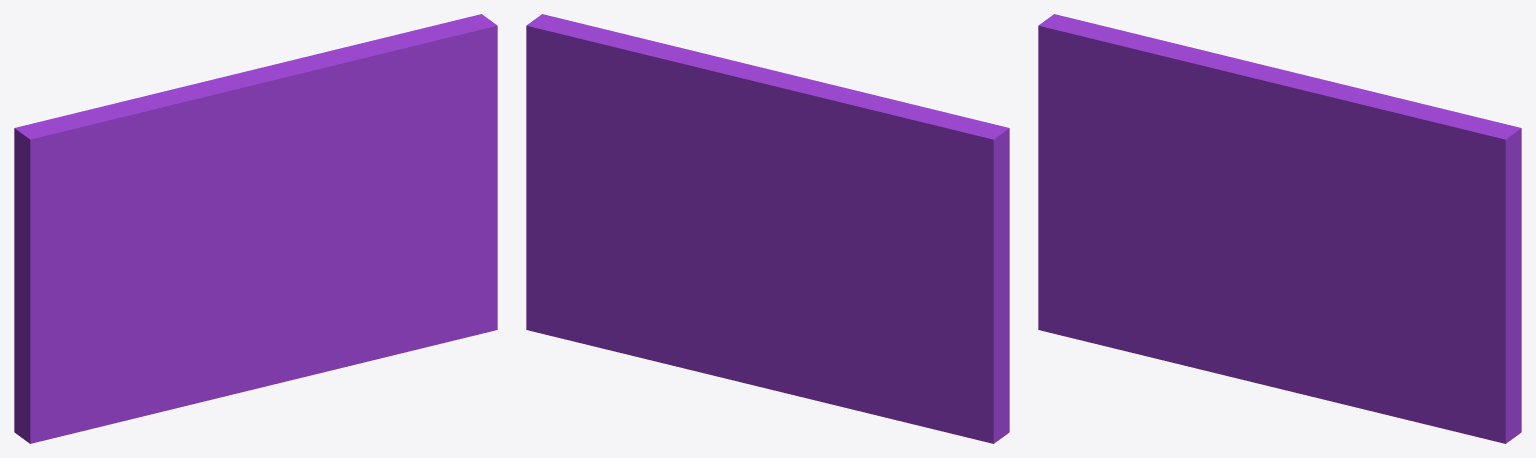
The model's file is Barrier_96_chunks.fbx.
The picture shows the model from 3 angles, left to right: view 1: azimuth 30°, elevation 25°; view 2: azimuth 150°, elevation 25°; view 3: azimuth 330°, elevation 25°; orthographic projection.
Parts seen in each view (by area): view 1: Barrier_96_1, Barrier_96_0, Barrier_96_2, Barrier_96_4, Barrier_96_3, Barrier_96_5, Barrier_96_6; view 2: Barrier_96_1, Barrier_96_2, Barrier_96_0, Barrier_96_4, Barrier_96_5, Barrier_96_6; view 3: Barrier_96_1, Barrier_96_0, Barrier_96_2, Barrier_96_4, Barrier_96_3, Barrier_96_5, Barrier_96_6.
Boxes of the visible parts, bbox=[...] form: Barrier_96_1: bbox=[14, 87, 266, 443]; Barrier_96_0: bbox=[249, 132, 497, 375]; Barrier_96_2: bbox=[182, 14, 497, 219]; Barrier_96_4: bbox=[98, 315, 242, 427]; Barrier_96_3: bbox=[205, 293, 267, 391]; Barrier_96_5: bbox=[247, 298, 310, 390]; Barrier_96_6: bbox=[203, 266, 264, 315]; Barrier_96_1: bbox=[771, 83, 1009, 443]; Barrier_96_2: bbox=[526, 14, 826, 236]; Barrier_96_0: bbox=[526, 161, 726, 361]; Barrier_96_4: bbox=[779, 307, 964, 436]; Barrier_96_5: bbox=[657, 251, 786, 391]; Barrier_96_6: bbox=[719, 230, 841, 319]; Barrier_96_1: bbox=[1038, 14, 1274, 346]; Barrier_96_0: bbox=[1258, 220, 1521, 443]; Barrier_96_2: bbox=[1221, 54, 1521, 262]; Barrier_96_4: bbox=[1106, 285, 1250, 381]; Barrier_96_3: bbox=[1213, 287, 1275, 382]; Barrier_96_5: bbox=[1255, 300, 1319, 398]; Barrier_96_6: bbox=[1211, 259, 1272, 293].
Size of the model in its own units: 462 by 288 by 27.2.
